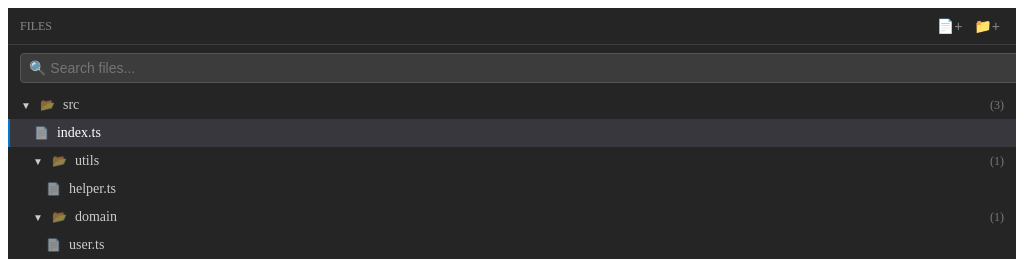
Test case: EditableFileTree › context menu › should show context menu on right-click
Right-click the text "index.ts" at (512, 133), box 8,119 -> 1016,147
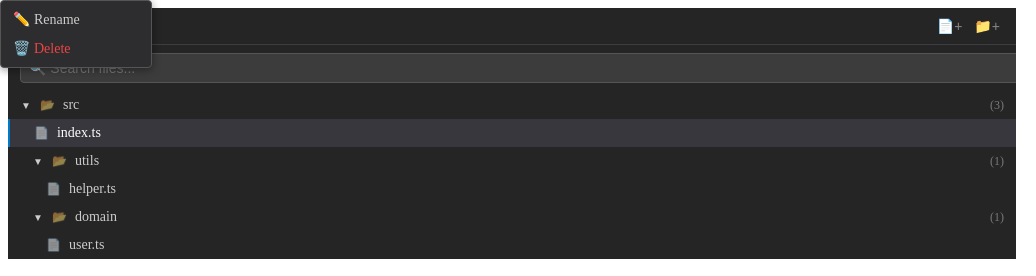
Expected: the text "✏️ Rename" is shown, 13,12 -> 80,27
Expected: the text "🗑️ Delete" is shown, 13,41 -> 70,56
